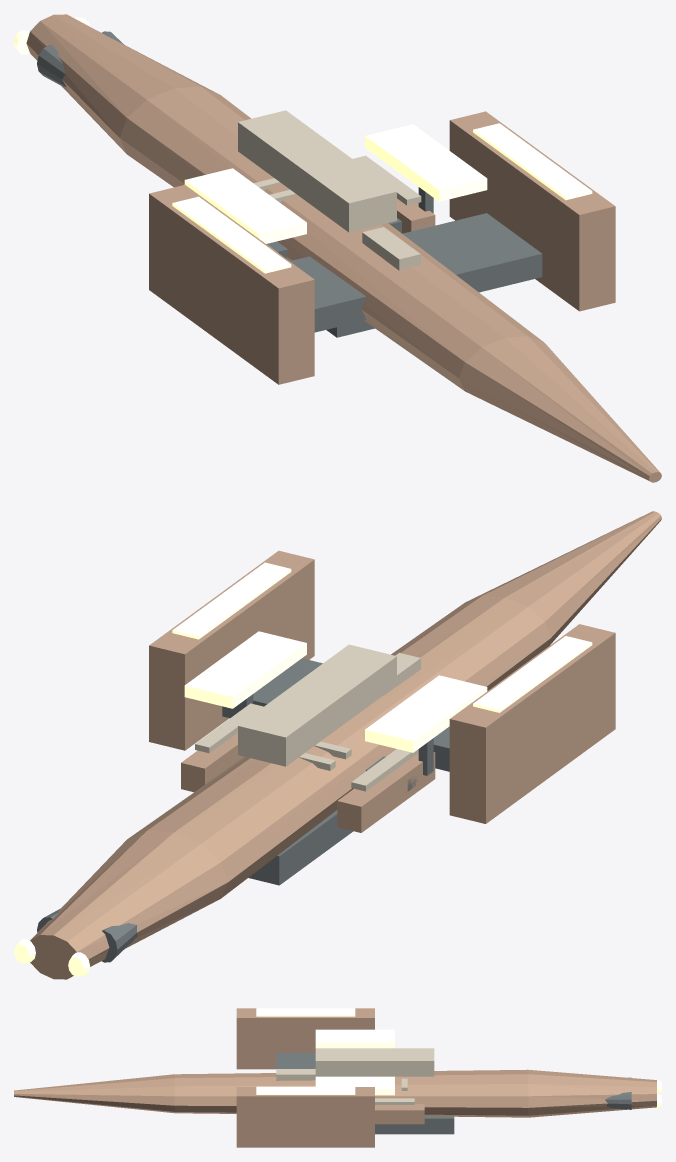
3 renders of one model, top to bottom at view 1: azimuth 30°, elevation 25°; view 2: azimuth 150°, elevation 25°; view 3: azimuth 270°, elevation 25°, orthographic. The views are drawn at different scales.
Bounding box in the file's own units: 4.54 × 1.79 × 14.15.
